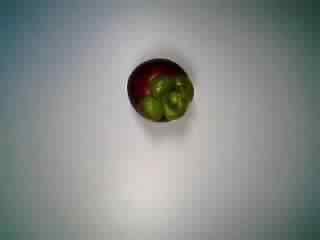mangosteen: (120, 54, 197, 129)
